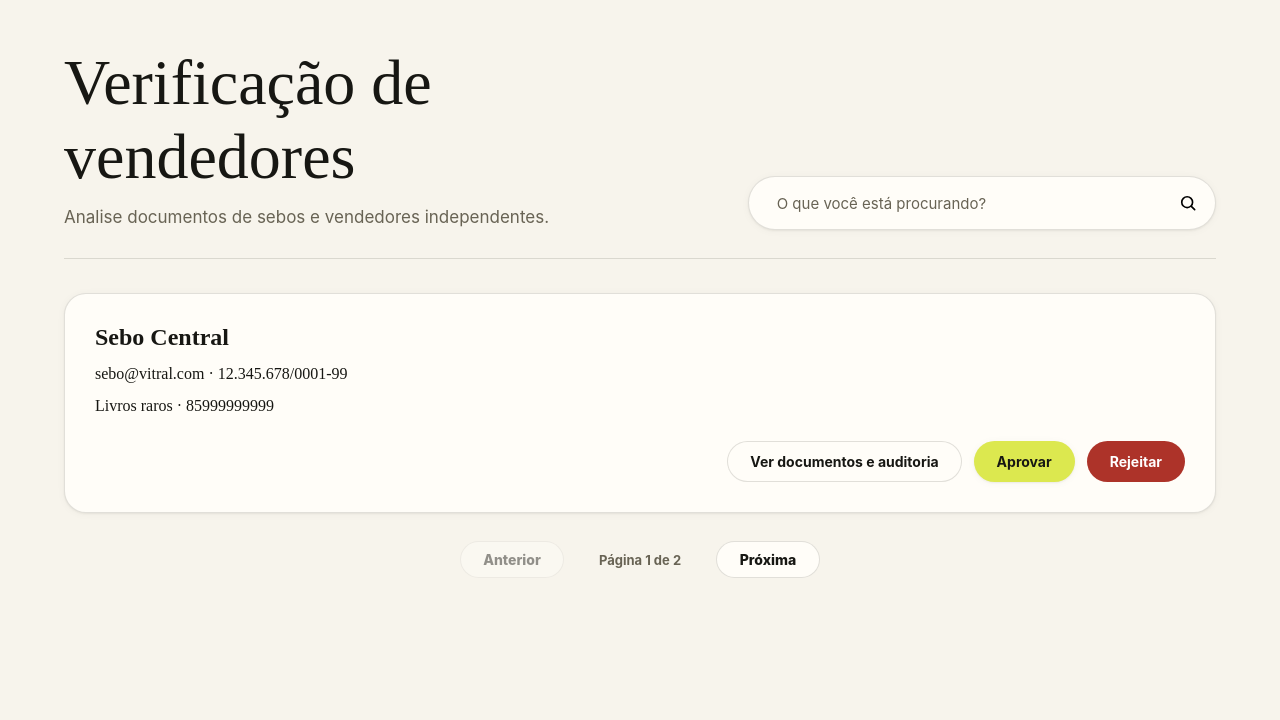
Scenario: cobertura focada no painel admin de verificação › lista pendentes, detalhes, documentos, auditoria e aprova sebo
Expected: the heading "Sebo Central" is shown, [95,324,229,350]
Expected: the text "sebo@vitral.com · 12.345.678/0001-99" is shown, [95,365,348,382]
Click the button "Ver documentos e auditoria" at (844, 462), box [727,441,962,482]
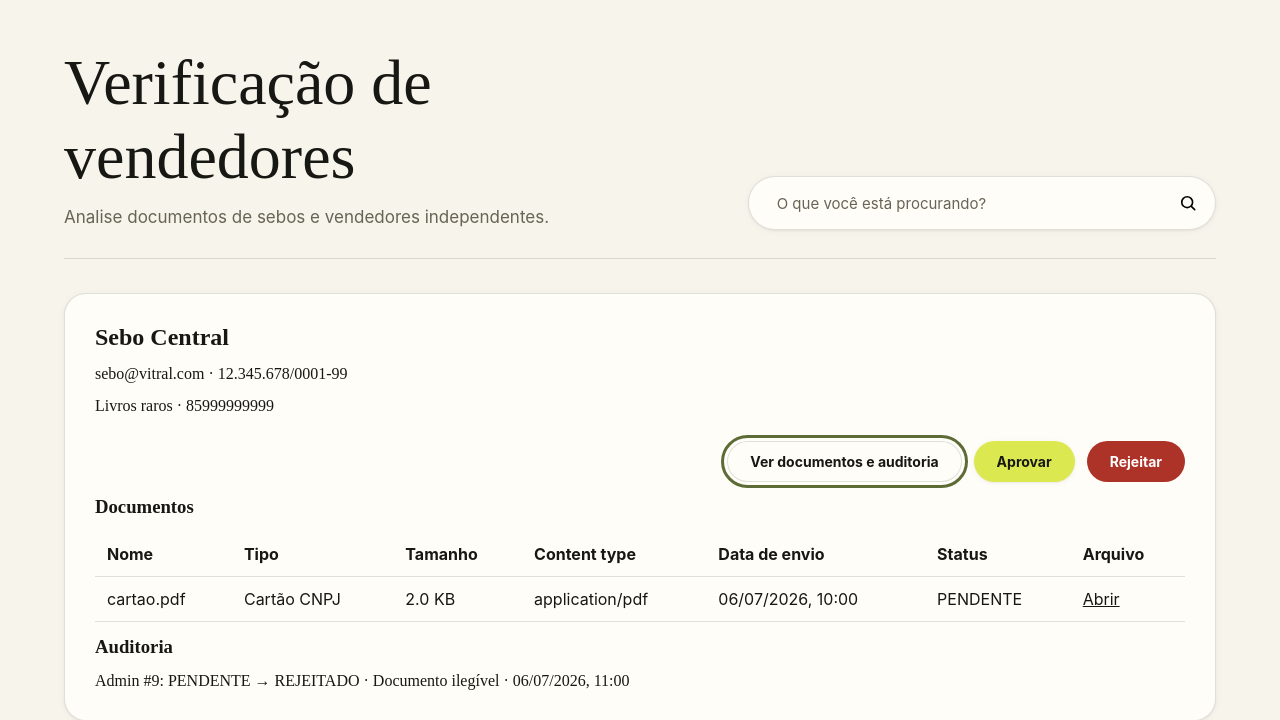
Expected: the text "cartao.pdf" is shown, [95,577,232,622]
Expected: the text "2.0 KB" is shown, [393,577,522,622]
Expected: the button "Abrir" is shown, [1083,589,1120,609]
Click the button "Aprovar" at (1024, 462), box [974,441,1075,482]
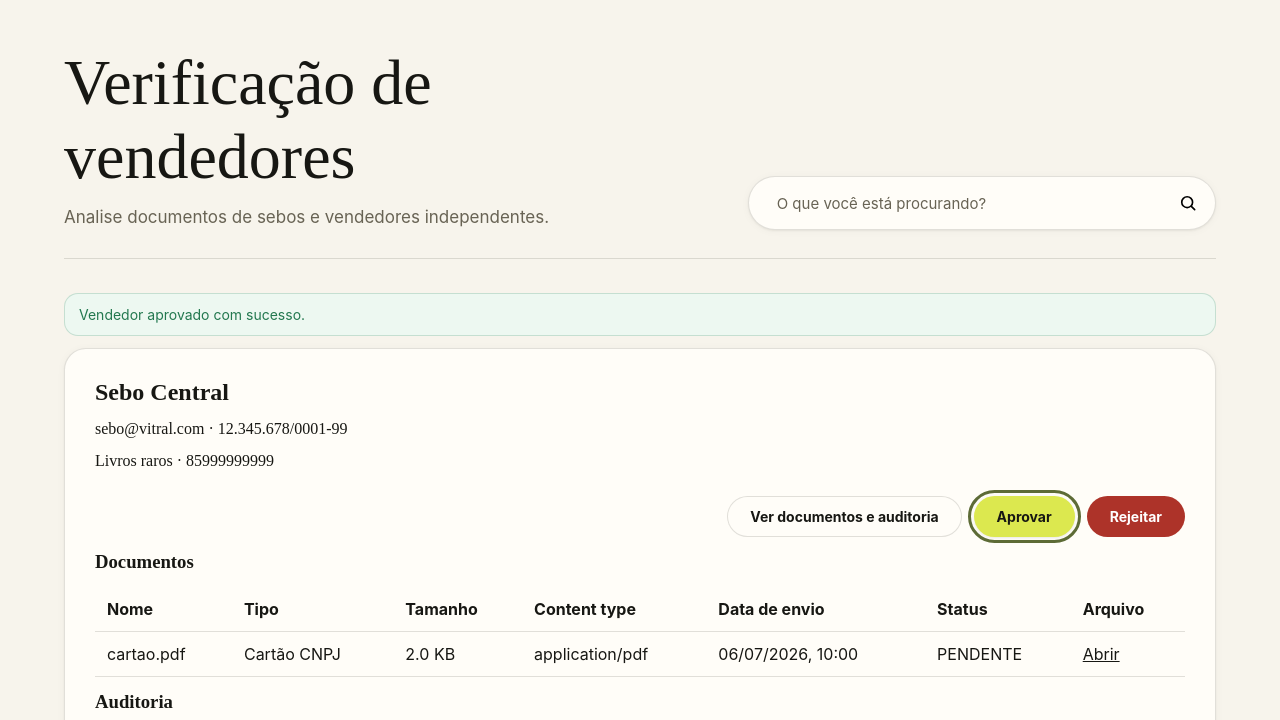
Expected: the message reads "Vendedor aprovado com sucesso.", [79,306,305,323]
